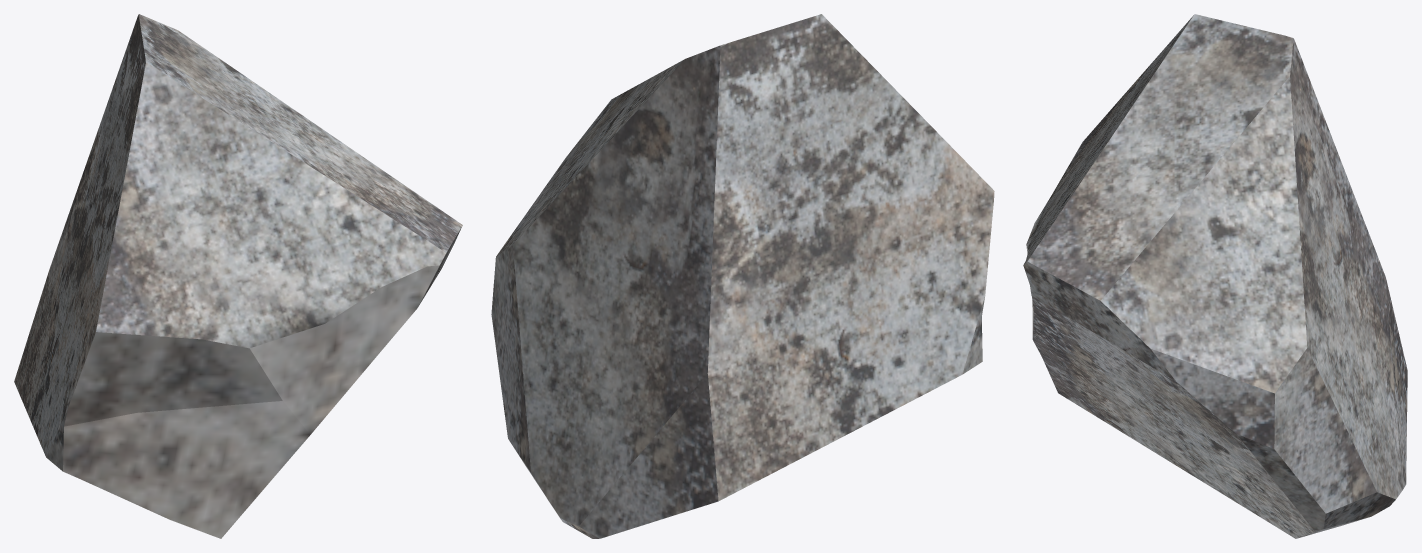
The model's file is Asteroid_Large_001_02_002_03_007.fbx.
3 views of the same model, side by side, from view 1: azimuth 30°, elevation 25°; view 2: azimuth 150°, elevation 25°; view 3: azimuth 270°, elevation 25° (orthographic). The views are drawn at different scales.
Visible parts, largest first — view 1: Asteroid_Large_001_02_002_03_007; view 2: Asteroid_Large_001_02_002_03_007; view 3: Asteroid_Large_001_02_002_03_007.
Part boxes in pixels (left/top/right/bottom): Asteroid_Large_001_02_002_03_007: left=14, top=14, right=462, bottom=538; Asteroid_Large_001_02_002_03_007: left=491, top=14, right=994, bottom=538; Asteroid_Large_001_02_002_03_007: left=1023, top=14, right=1407, bottom=538.
Bounding box in the file's own units: 10.68 × 12.48 × 9.57.
